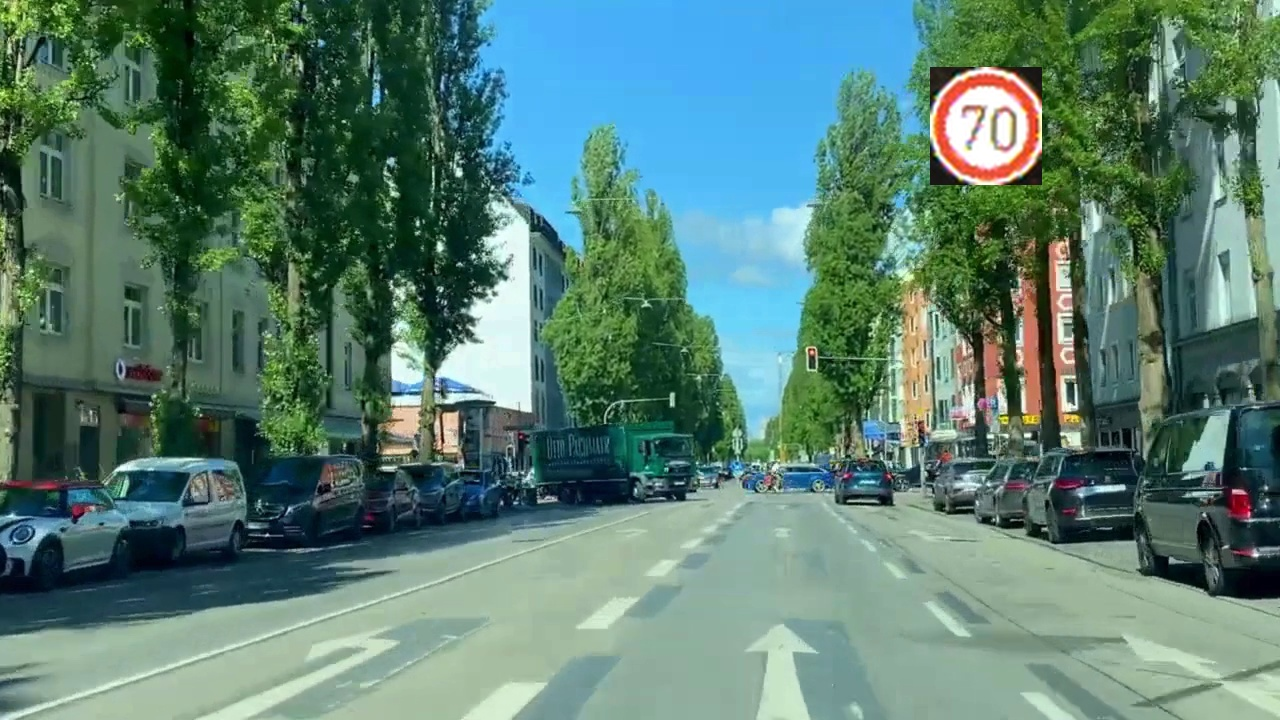Speed 70: (930, 67, 1042, 185)
